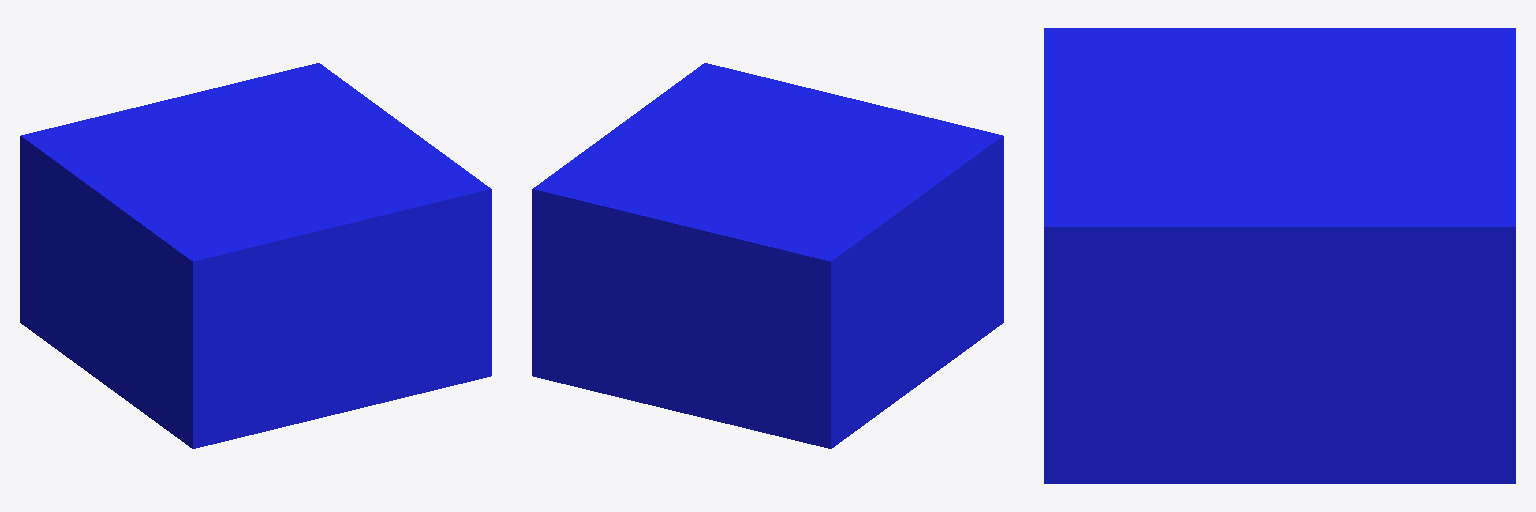
The robot description file, URDF, robot "random_box":
<?xml version='1.0' encoding='UTF-8'?>
<robot name="random_box">
  <link name="box">

    <inertial>
      <mass value="0.3"/>
      <origin xyz="0 0 0" rpy="0 0 0"/>
      <inertia ixx="0.1" ixy="0.1" ixz="0.1" iyy="0.1" iyz="0.1" izz="0.1"/>
    </inertial>

    <visual>
      <geometry>
        <box size="0.05 0.05 0.03"/>
      </geometry>
      <material name="color">
        <color rgba="0.16477837118630845 0.19369986938615202 0.9964930851407763 1"/>
      </material>
    </visual>
    <collision>
      <geometry>
        <box size="0.05 0.05 0.03"/>
      </geometry>

      <surface>
        <friction>
          <ode>
            <mu>100000000.0</mu>
            <mu2>100000000.0</mu2>
          </ode>
        </friction>
        <contact>
          <ode>
            <min_depth>0.003</min_depth>
          </ode>
        </contact>
      </surface>

    </collision>

  </link>
</robot>

--- Render facts (derived) ---
3 views of the same robot in one strip: view 1: azimuth 30°, elevation 25°; view 2: azimuth 150°, elevation 25°; view 3: azimuth 270°, elevation 25° (orthographic).
Model random_box with 1 links and 0 joints (none), rooted at box, posed all joints at 0.
Visible links, largest first — view 1: box; view 2: box; view 3: box.
Boxes of the visible links, x1,y1,x2,y2 form: box: [20, 63, 491, 448]; box: [532, 63, 1003, 448]; box: [1044, 28, 1515, 483].
Bounding box of the posed robot: 0.05 × 0.05 × 0.03 m (x, y, z).
Geometry: primitives only (box / cylinder / sphere), no mesh files.